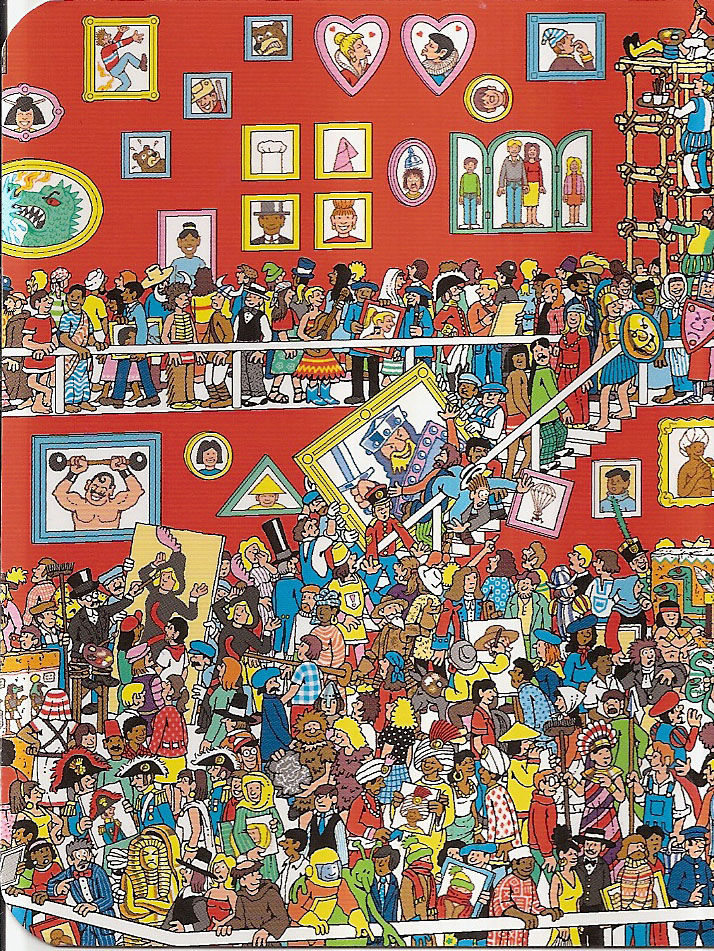waldo: (231, 734, 258, 769)
